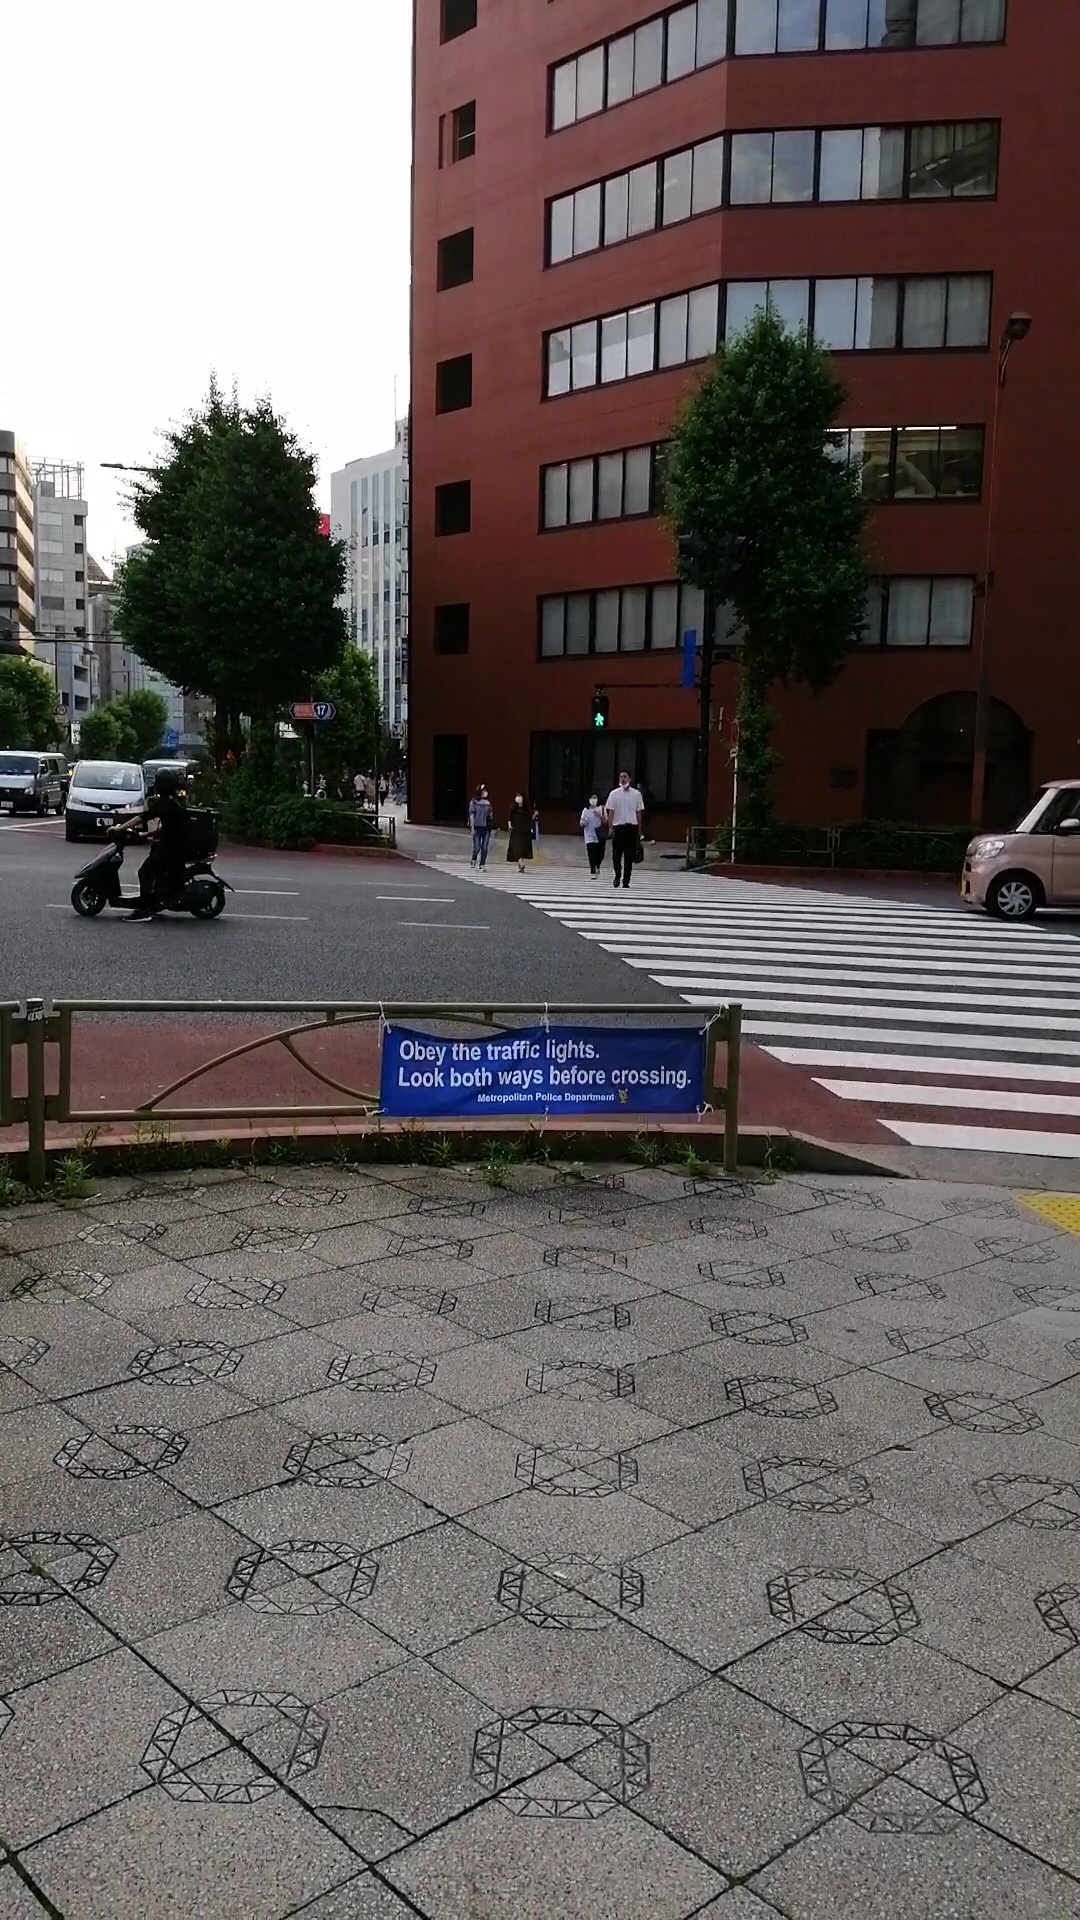green: (589, 691, 609, 733)
